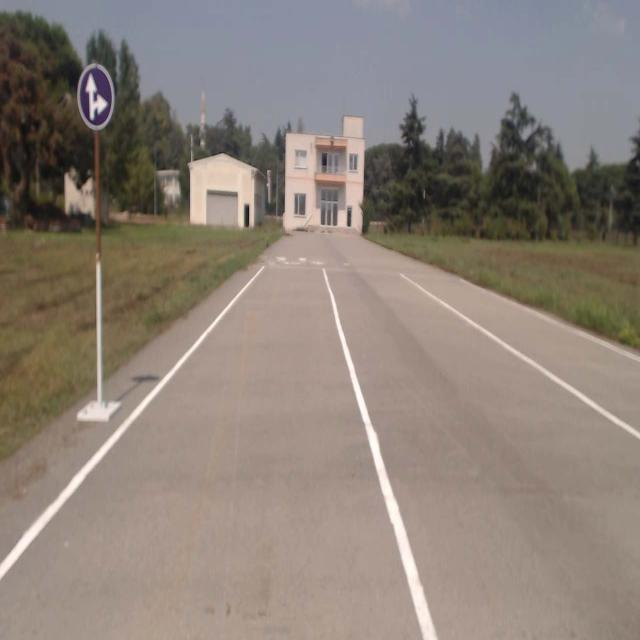ilerisag: (76, 63, 114, 130)
